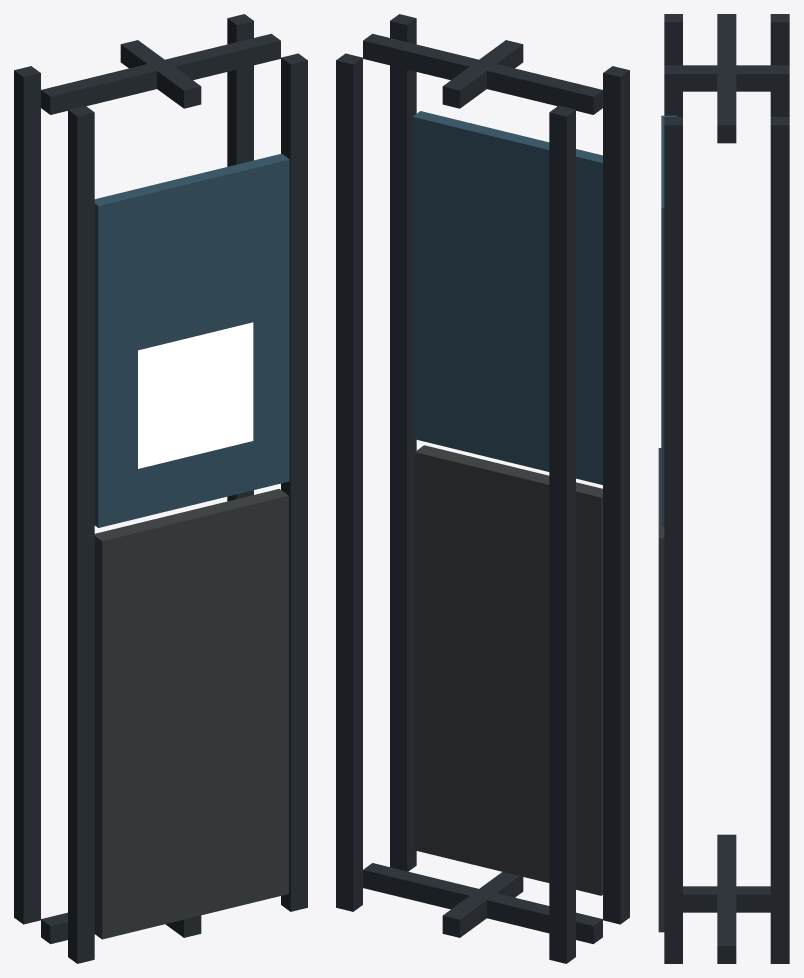
Rendered from lift_panel.glb.
The picture shows the model from 3 angles, left to right: view 1: azimuth 30°, elevation 25°; view 2: azimuth 150°, elevation 25°; view 3: azimuth 270°, elevation 25°; orthographic projection.
Visible parts, largest first — view 1: body, emissive_panel; view 2: body; view 3: body.
Part boxes in pixels (box(x1,y1,x2,y2)): body: box(14, 14, 307, 963); emissive_panel: box(138, 322, 253, 468); body: box(336, 14, 629, 963); body: box(658, 14, 789, 963).
Bounding box in the file's own units: 0.398 × 1.4 × 0.1982.
2 materials, 2 textured.
